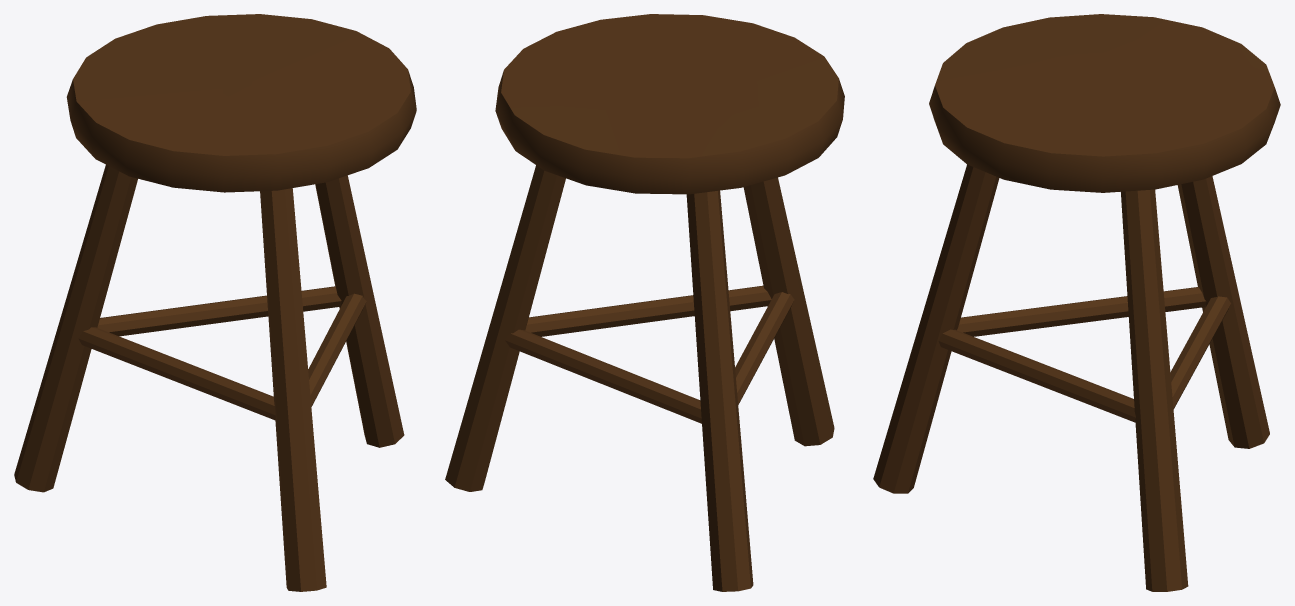
File: hocker.glb
The picture shows the model from 3 angles, left to right: view 1: azimuth 30°, elevation 25°; view 2: azimuth 150°, elevation 25°; view 3: azimuth 270°, elevation 25°; orthographic projection.
Visible parts, largest first — view 1: hocker; view 2: hocker; view 3: hocker.
Boxes of the visible parts, box(x1,y1,x2,y2) form: hocker: box(14, 14, 416, 591); hocker: box(445, 14, 844, 591); hocker: box(873, 14, 1280, 591).
Bounding box in the file's own units: 0.3989 × 0.4668 × 0.4065.
